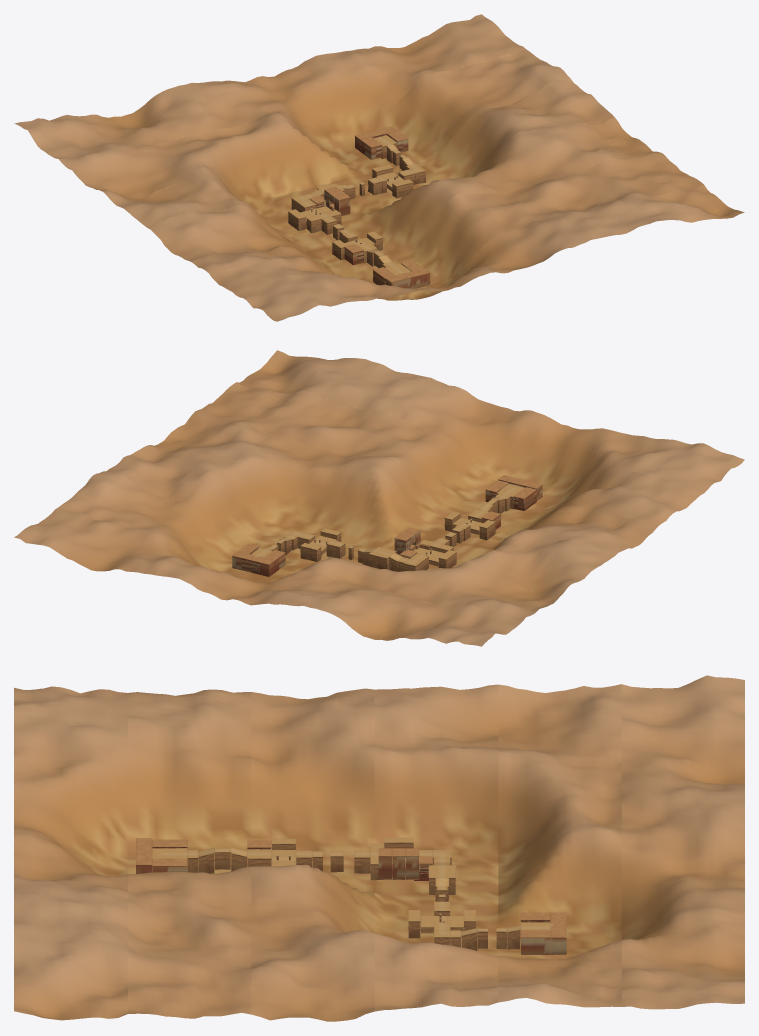
File: dune_sea_terrain.glb
3 views of the same model, one above another, from view 1: azimuth 30°, elevation 25°; view 2: azimuth 150°, elevation 25°; view 3: azimuth 270°, elevation 25° (orthographic). The views are drawn at different scales.
Visible parts, largest first — view 1: backdrop_4, backdrop_5, backdrop_2, backdrop_1, backdrop_3, backdrop_0, terrain_E, terrain_A, terrain_J, terrain_H, terrain_B, terrain_C (+1 smaller); view 2: backdrop_0, backdrop_2, backdrop_1, backdrop_5, backdrop_3, backdrop_4, terrain_E, terrain_A, terrain_J, terrain_F, terrain_H, terrain_C (+1 smaller); view 3: backdrop_5, backdrop_2, backdrop_0, backdrop_1, backdrop_4, backdrop_3, terrain_E, terrain_B, terrain_J, terrain_A, terrain_I, terrain_H (+3 smaller).
Part boxes in pixels (<box>): backdrop_4: <box>59,49,569,198</box>; backdrop_5: <box>14,14,525,159</box>; backdrop_2: <box>148,117,658,268</box>; backdrop_1: <box>192,152,703,299</box>; backdrop_3: <box>103,78,614,235</box>; backdrop_0: <box>236,184,744,321</box>; terrain_E: <box>288,186,350,233</box>; terrain_A: <box>373,260,430,288</box>; terrain_J: <box>355,126,408,159</box>; terrain_H: <box>372,164,415,198</box>; terrain_B: <box>344,242,397,268</box>; terrain_C: <box>332,231,382,260</box>; backdrop_0: <box>237,350,744,497</box>; backdrop_2: <box>148,415,659,562</box>; backdrop_1: <box>192,382,703,531</box>; backdrop_5: <box>14,507,525,646</box>; backdrop_3: <box>103,445,614,592</box>; backdrop_4: <box>59,471,569,617</box>; terrain_E: <box>394,527,456,570</box>; terrain_A: <box>485,475,542,510</box>; terrain_J: <box>232,543,285,576</box>; terrain_F: <box>362,547,422,571</box>; terrain_H: <box>298,528,341,561</box>; terrain_C: <box>444,511,495,540</box>; backdrop_5: <box>621,675,744,1009</box>; backdrop_2: <box>251,688,374,1021</box>; backdrop_0: <box>14,686,127,1020</box>; backdrop_1: <box>128,689,251,1018</box>; backdrop_4: <box>498,684,621,1007</box>; backdrop_3: <box>374,684,498,1011</box>; terrain_E: <box>370,837,432,880</box>; terrain_B: <box>187,840,271,873</box>; terrain_J: <box>520,912,566,954</box>; terrain_A: <box>136,838,187,873</box>; terrain_I: <box>434,925,520,950</box>; terrain_H: <box>408,907,476,938</box>.
Bounding box in the file's own units: 553 × 62.49 × 539.
